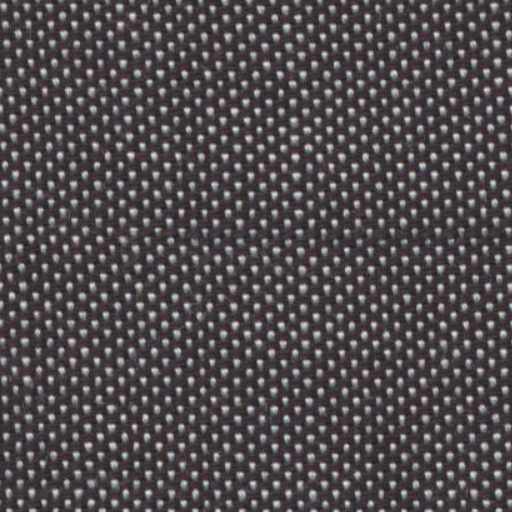TuoSha: (12, 218, 484, 259)
